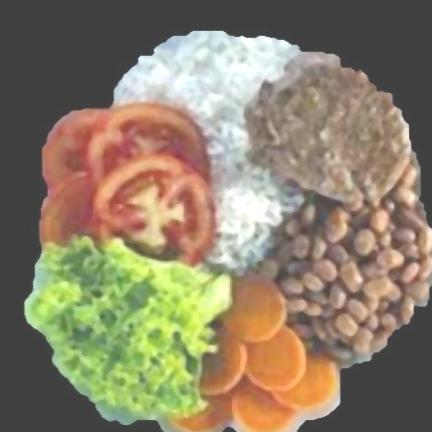beans: (262, 163, 431, 367)
carrot: (170, 275, 339, 431)
meat: (244, 52, 410, 204)
rice: (113, 30, 300, 271)
salad: (24, 235, 229, 423)
tomato: (38, 102, 229, 265)
